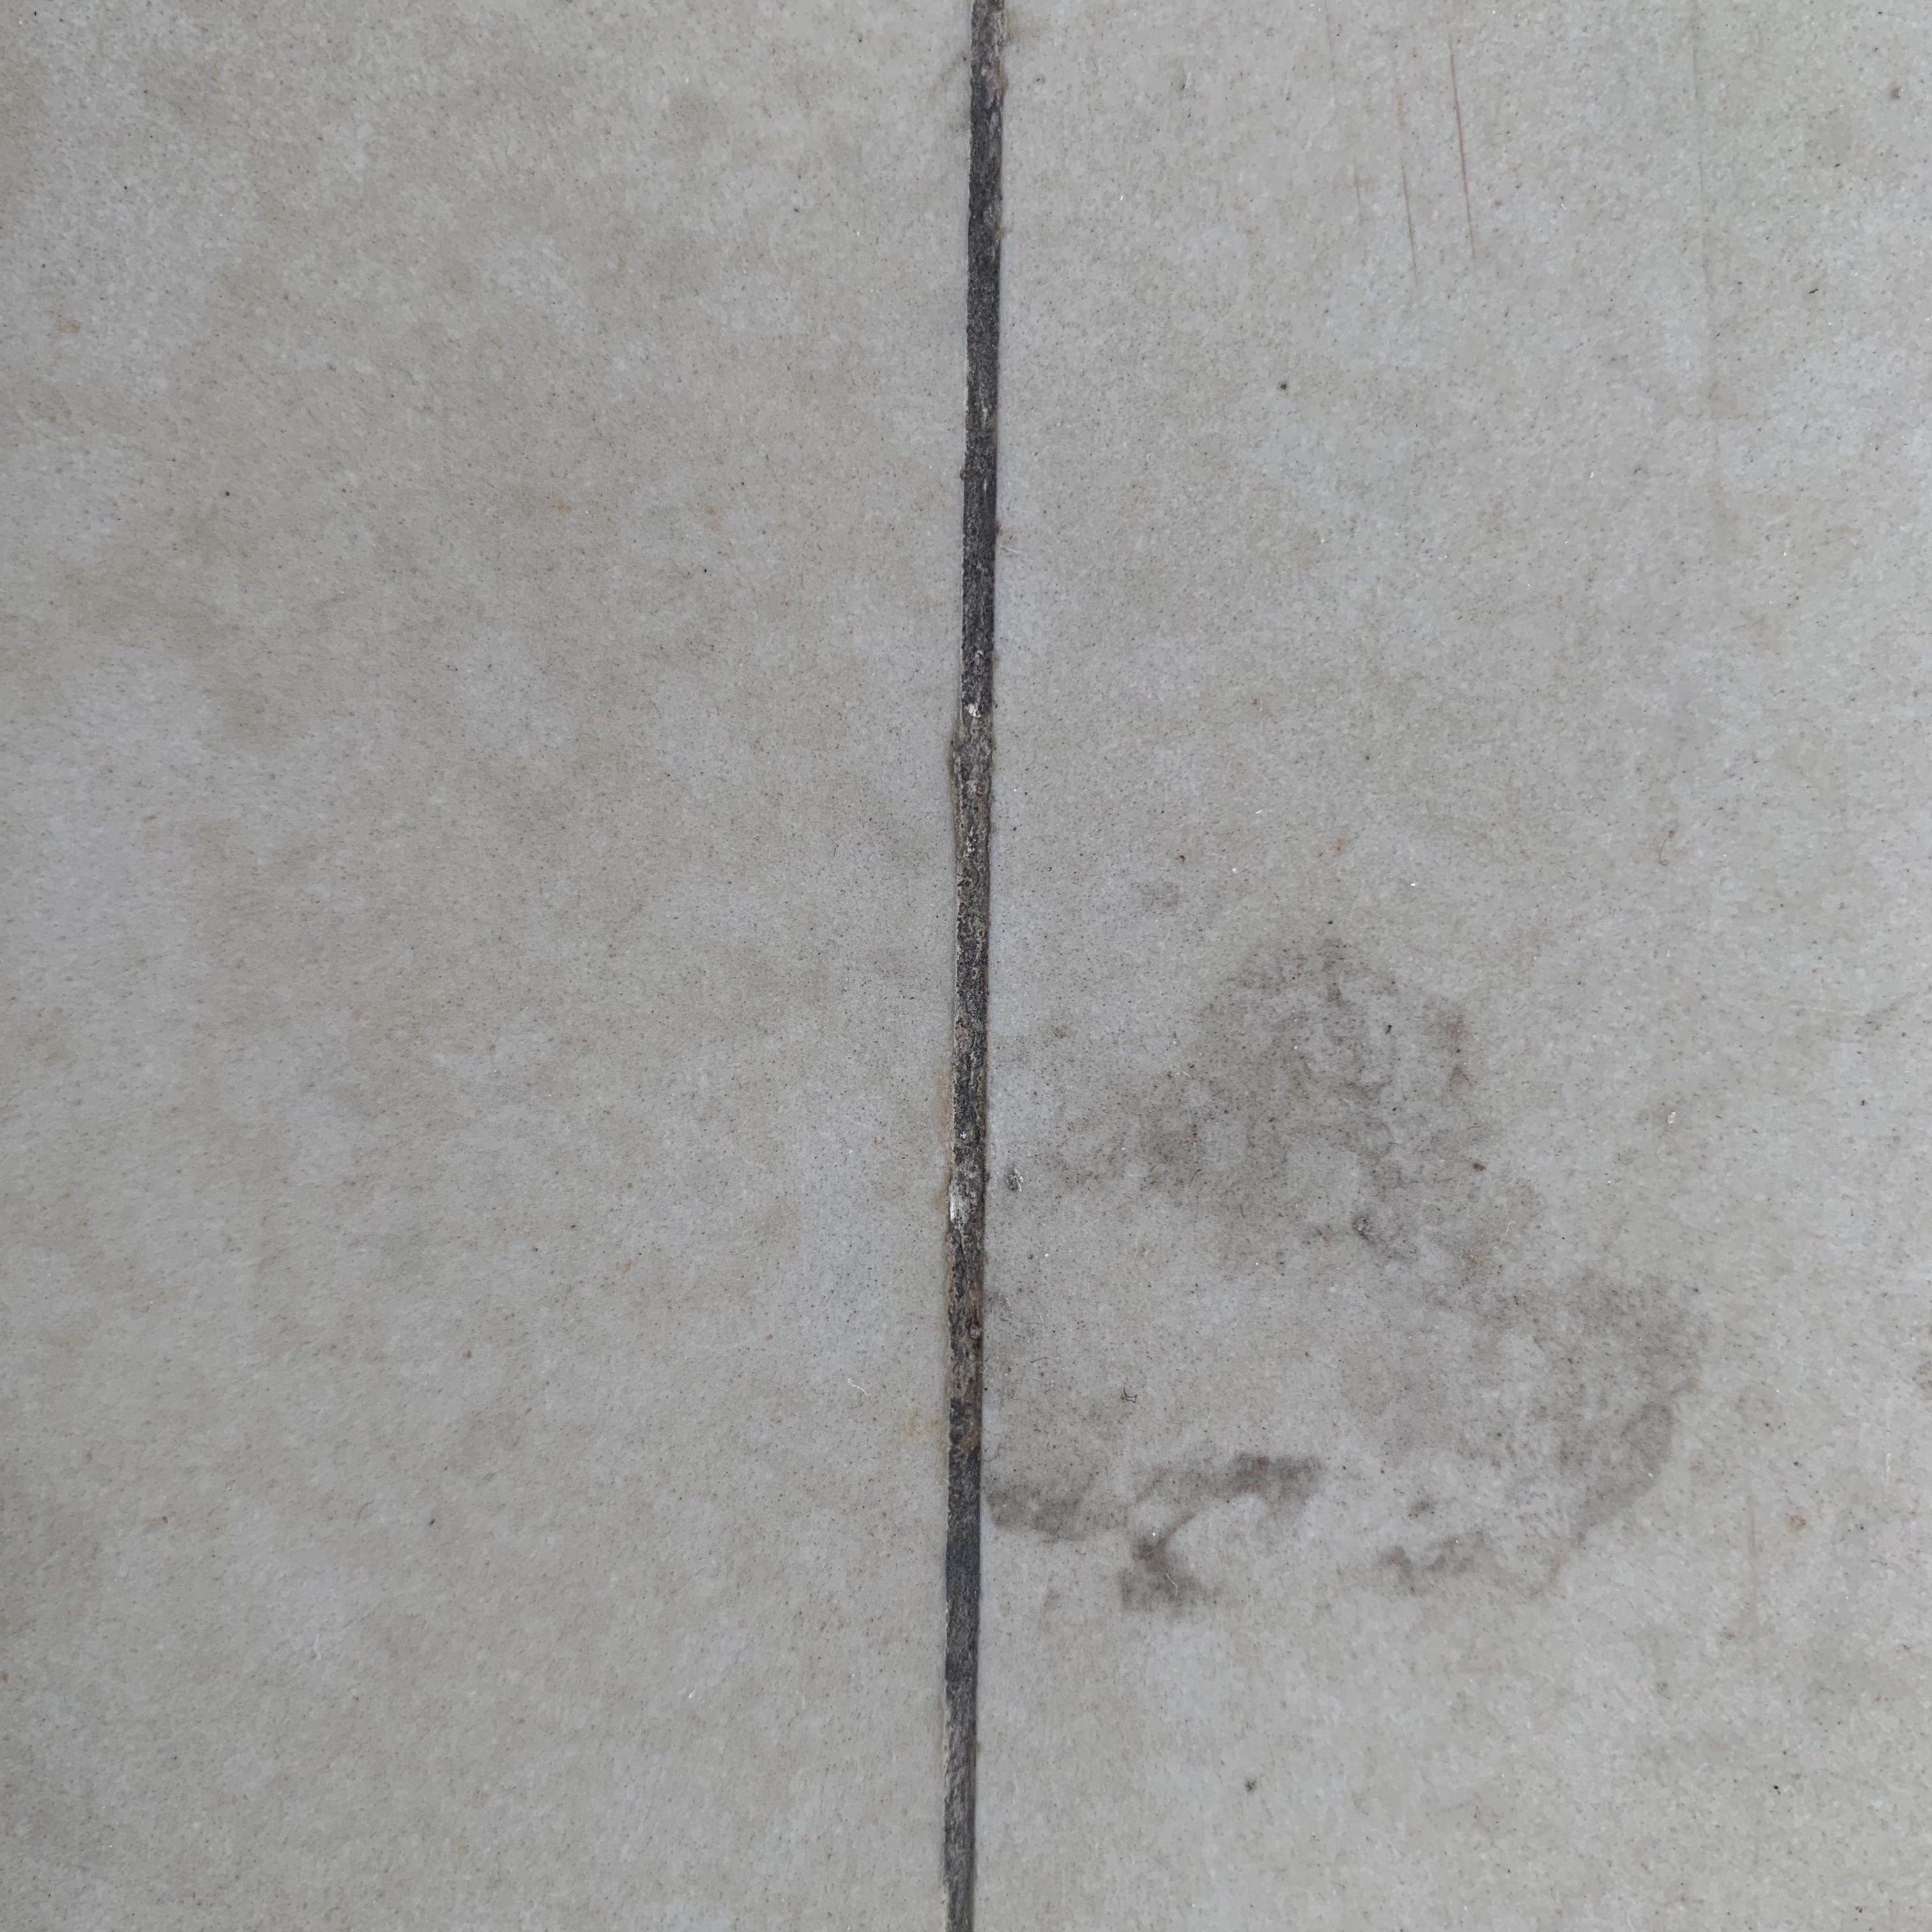grey spot: (975, 938, 1711, 1615)
